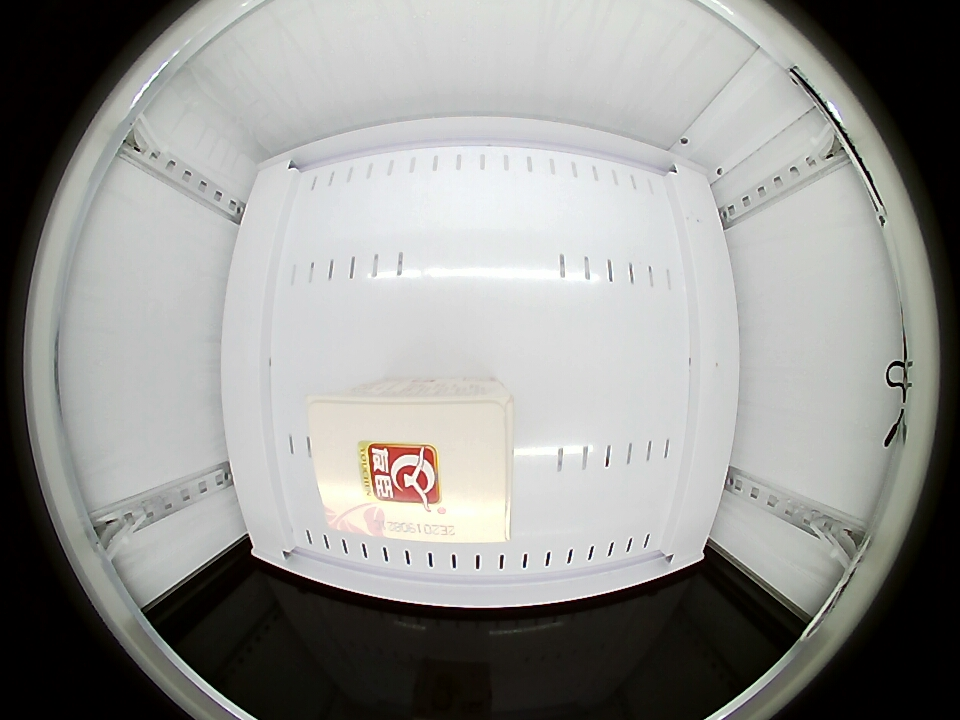rousongbing: (308, 385, 512, 542)
